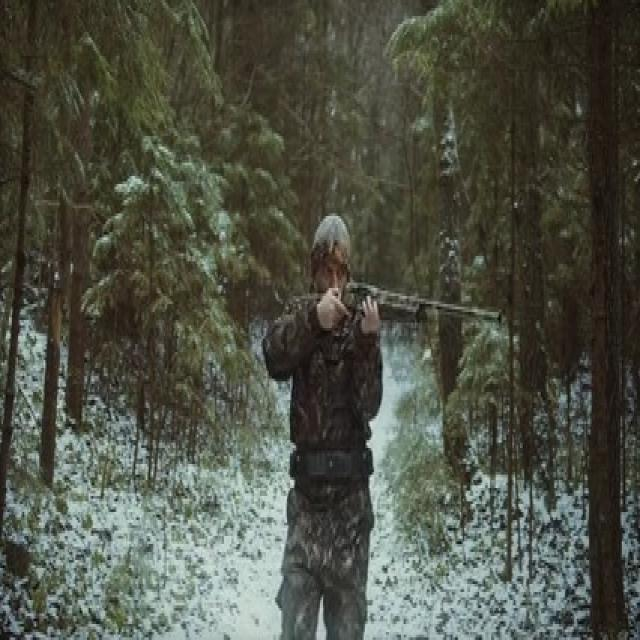Gun_Holder: (323, 276, 507, 364)
Person: (261, 207, 386, 640)
